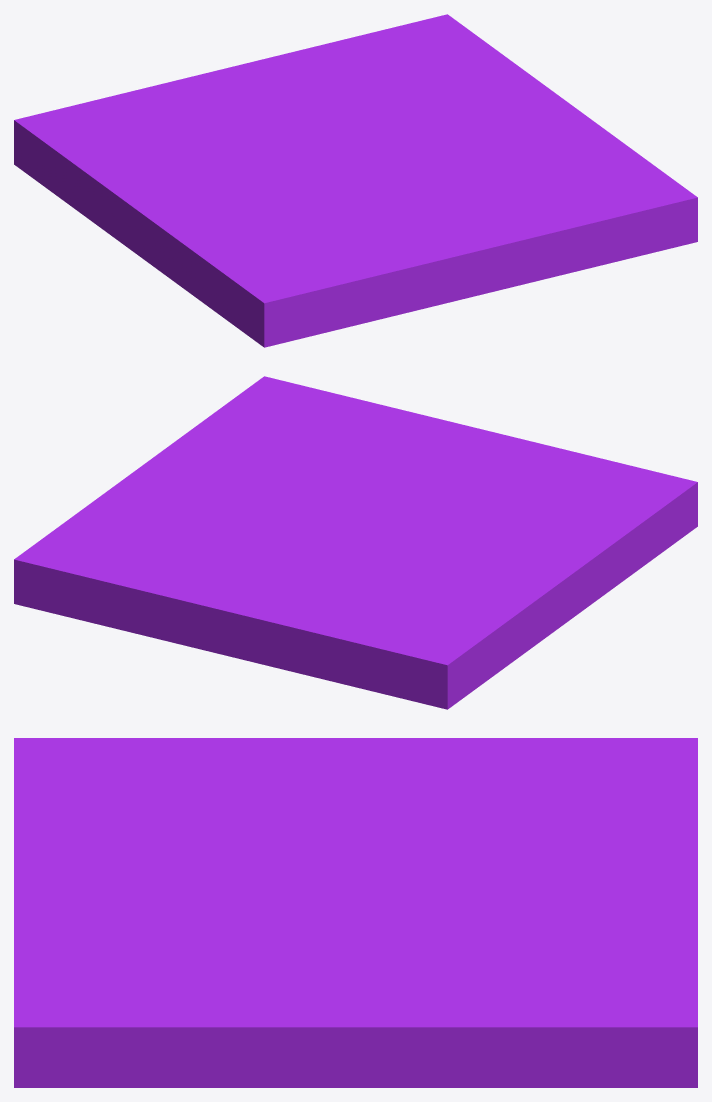
3 renders of one model, top to bottom at view 1: azimuth 30°, elevation 25°; view 2: azimuth 150°, elevation 25°; view 3: azimuth 270°, elevation 25°, orthographic. The views are drawn at different scales.
Parts seen in each view (by area): view 1: X1000_sh_12, X1000_sh_5, X1000_sh_6, X1000_sh_14, X1000_sh_8, X1000_sh_2, X1000_sh_19, X1000_sh_18, X1000_sh_3, X1000_sh_9, X1000_sh_20, X1000_sh_13 (+7 smaller); view 2: X1000_sh_14, X1000_sh_19, X1000_sh_5, X1000_sh_12, X1000_sh_6, X1000_sh_2, X1000_sh_8, X1000_sh_4, X1000_sh_18, X1000_sh_3, X1000_sh_9, X1000_sh_20 (+8 smaller); view 3: X1000_sh_2, X1000_sh_5, X1000_sh_12, X1000_sh_19, X1000_sh_8, X1000_sh_14, X1000_sh_6, X1000_sh_18, X1000_sh_3, X1000_sh_9, X1000_sh_20, X1000_sh_13 (+8 smaller).
Boxes of the visible parts, x1,y1,x2,y2 form: X1000_sh_12: (201,208,500,324); X1000_sh_5: (495,124,697,273); X1000_sh_6: (141,213,356,347); X1000_sh_14: (14,103,175,257); X1000_sh_8: (392,161,566,289); X1000_sh_2: (409,14,597,131); X1000_sh_19: (231,17,434,109); X1000_sh_18: (147,127,279,214); X1000_sh_3: (272,77,410,142); X1000_sh_9: (382,59,512,139); X1000_sh_20: (246,112,346,178); X1000_sh_13: (173,175,333,219); X1000_sh_14: (368,570,575,709); X1000_sh_19: (26,551,296,642); X1000_sh_5: (165,376,395,479); X1000_sh_12: (436,425,615,546); X1000_sh_6: (558,462,697,615); X1000_sh_2: (14,449,221,607); X1000_sh_8: (322,408,463,497); X1000_sh_4: (253,598,370,690); X1000_sh_18: (346,538,571,583); X1000_sh_3: (177,517,327,575); X1000_sh_9: (126,476,259,551); X1000_sh_20: (302,519,435,576); X1000_sh_2: (277,977,697,1087); X1000_sh_5: (14,939,323,1087); X1000_sh_12: (14,763,291,893); X1000_sh_19: (548,867,697,1018); X1000_sh_8: (14,873,294,945); X1000_sh_14: (346,738,697,788); X1000_sh_6: (14,738,346,792); X1000_sh_18: (326,741,519,849); X1000_sh_3: (397,872,564,951); X1000_sh_9: (316,933,596,979); X1000_sh_20: (331,830,542,888); X1000_sh_13: (231,753,350,854).
Bounding box in the file's own units: 200 × 19.59 × 200.
